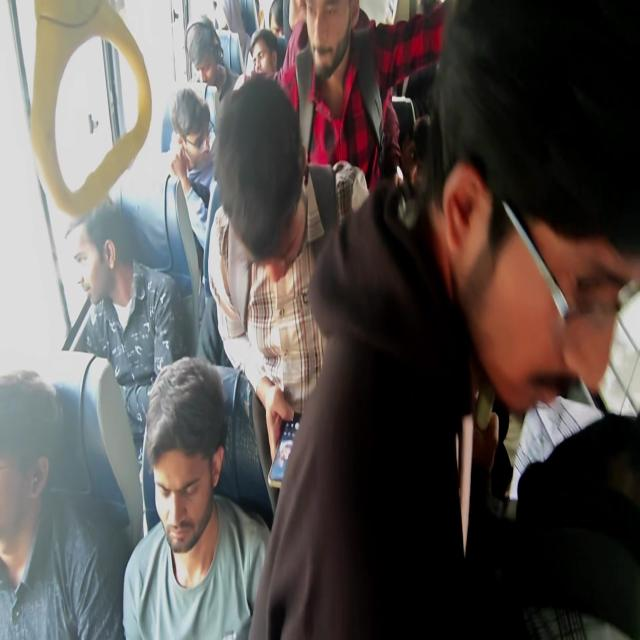person: (455, 30, 640, 389), (234, 112, 315, 289), (0, 391, 52, 579), (151, 394, 209, 541), (89, 203, 143, 325), (306, 0, 359, 112), (162, 85, 212, 162), (190, 18, 227, 85), (249, 43, 271, 109), (209, 0, 250, 34), (266, 12, 280, 42)
